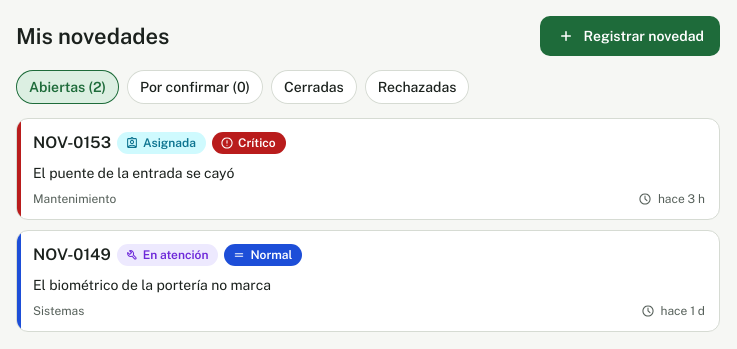
Test: Pantalla 04 · Mis novedades (RF-18) › RF-18: cambia de lista con los filtros
This screenshot has width=737, height=349.
Click the button "Cerradas": point(314, 87) [271,63,357,111]
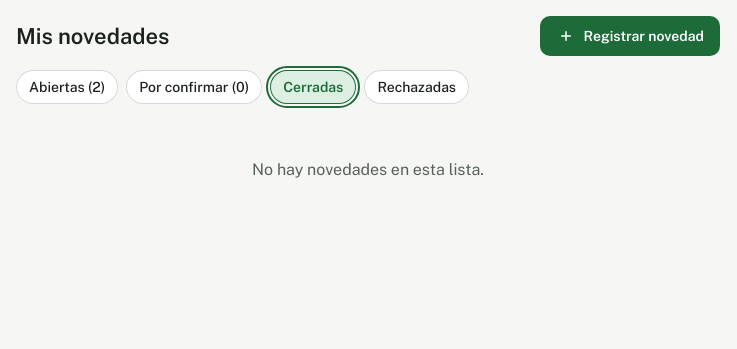
Result: the text "No hay novedades en esta lista." is shown at [252,160,484,179]
